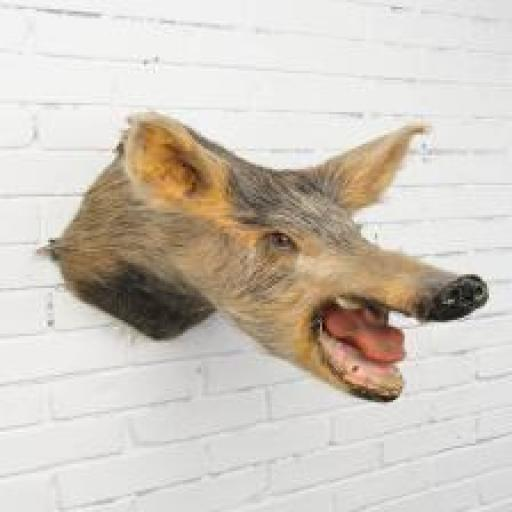Pig: (41, 112, 488, 402)
